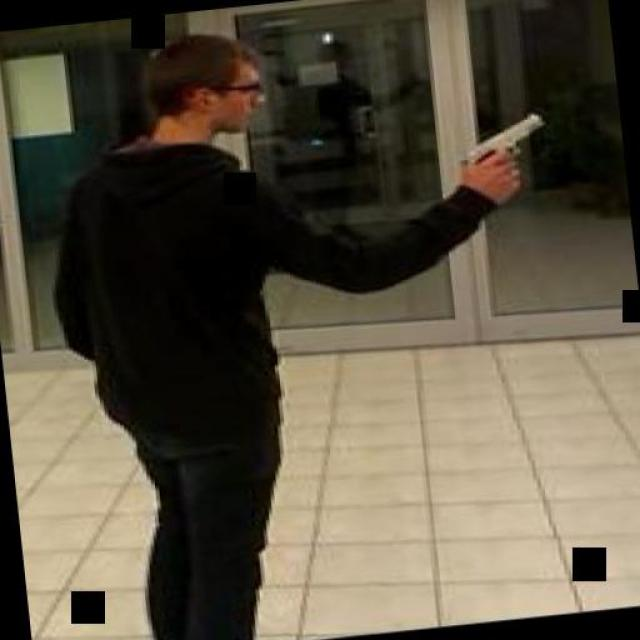gun: (446, 111, 546, 202)
